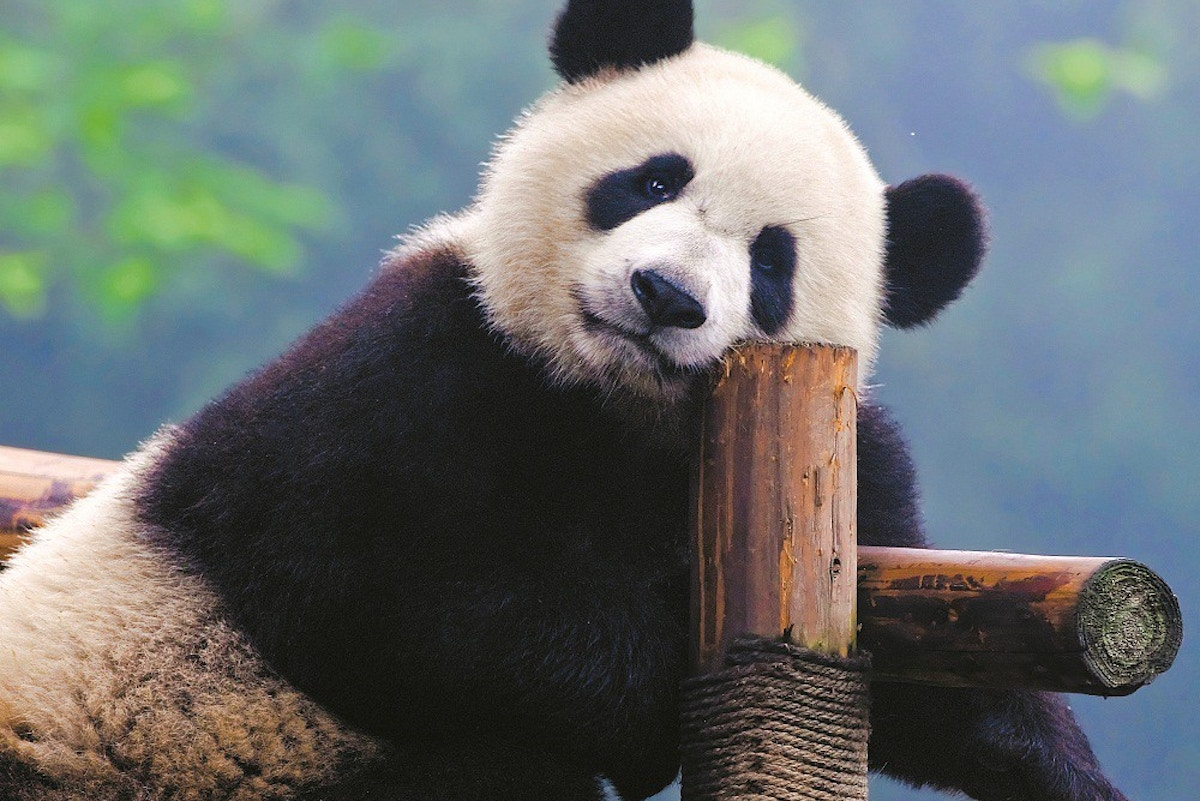Giant panda: (459, 0, 992, 407)
